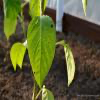Bell_pepper leaf: (27, 15, 56, 91)
